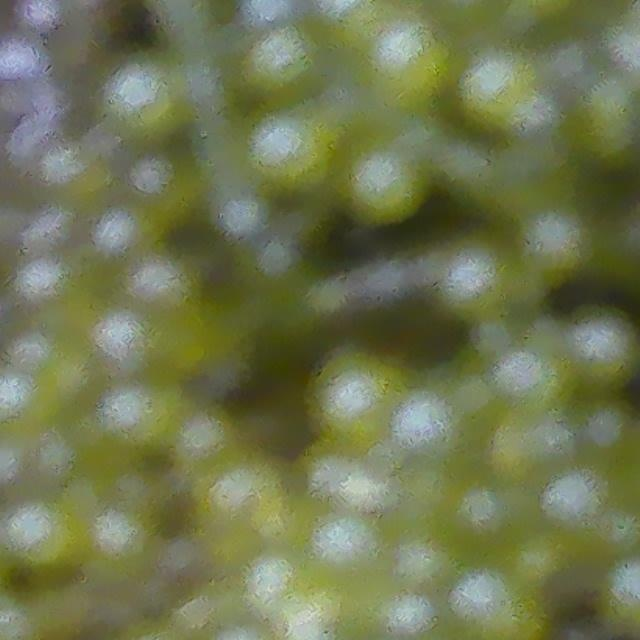SeaGrape: (444, 558, 533, 640), (300, 505, 386, 589), (566, 301, 638, 393), (247, 117, 325, 197), (320, 368, 397, 449), (391, 518, 469, 597), (338, 148, 423, 220), (366, 27, 444, 102), (349, 575, 437, 640), (245, 26, 320, 99), (2, 499, 79, 566), (465, 53, 531, 129), (541, 470, 606, 531), (134, 254, 200, 312)
